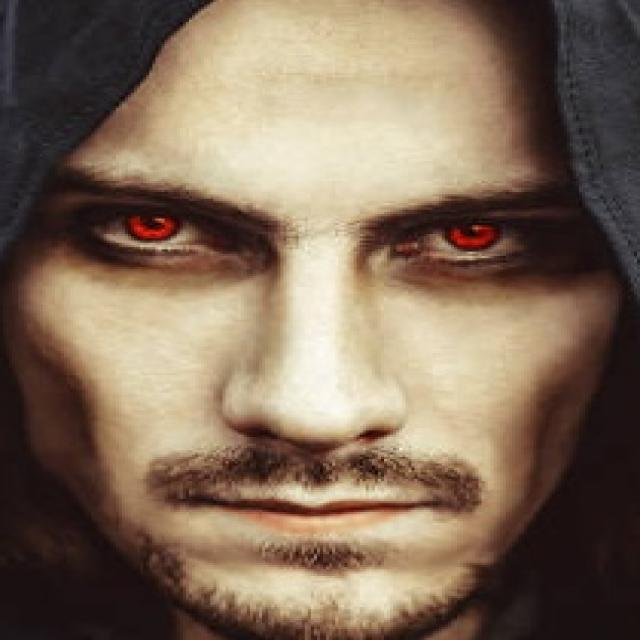Anxiety: (3, 0, 624, 638)
